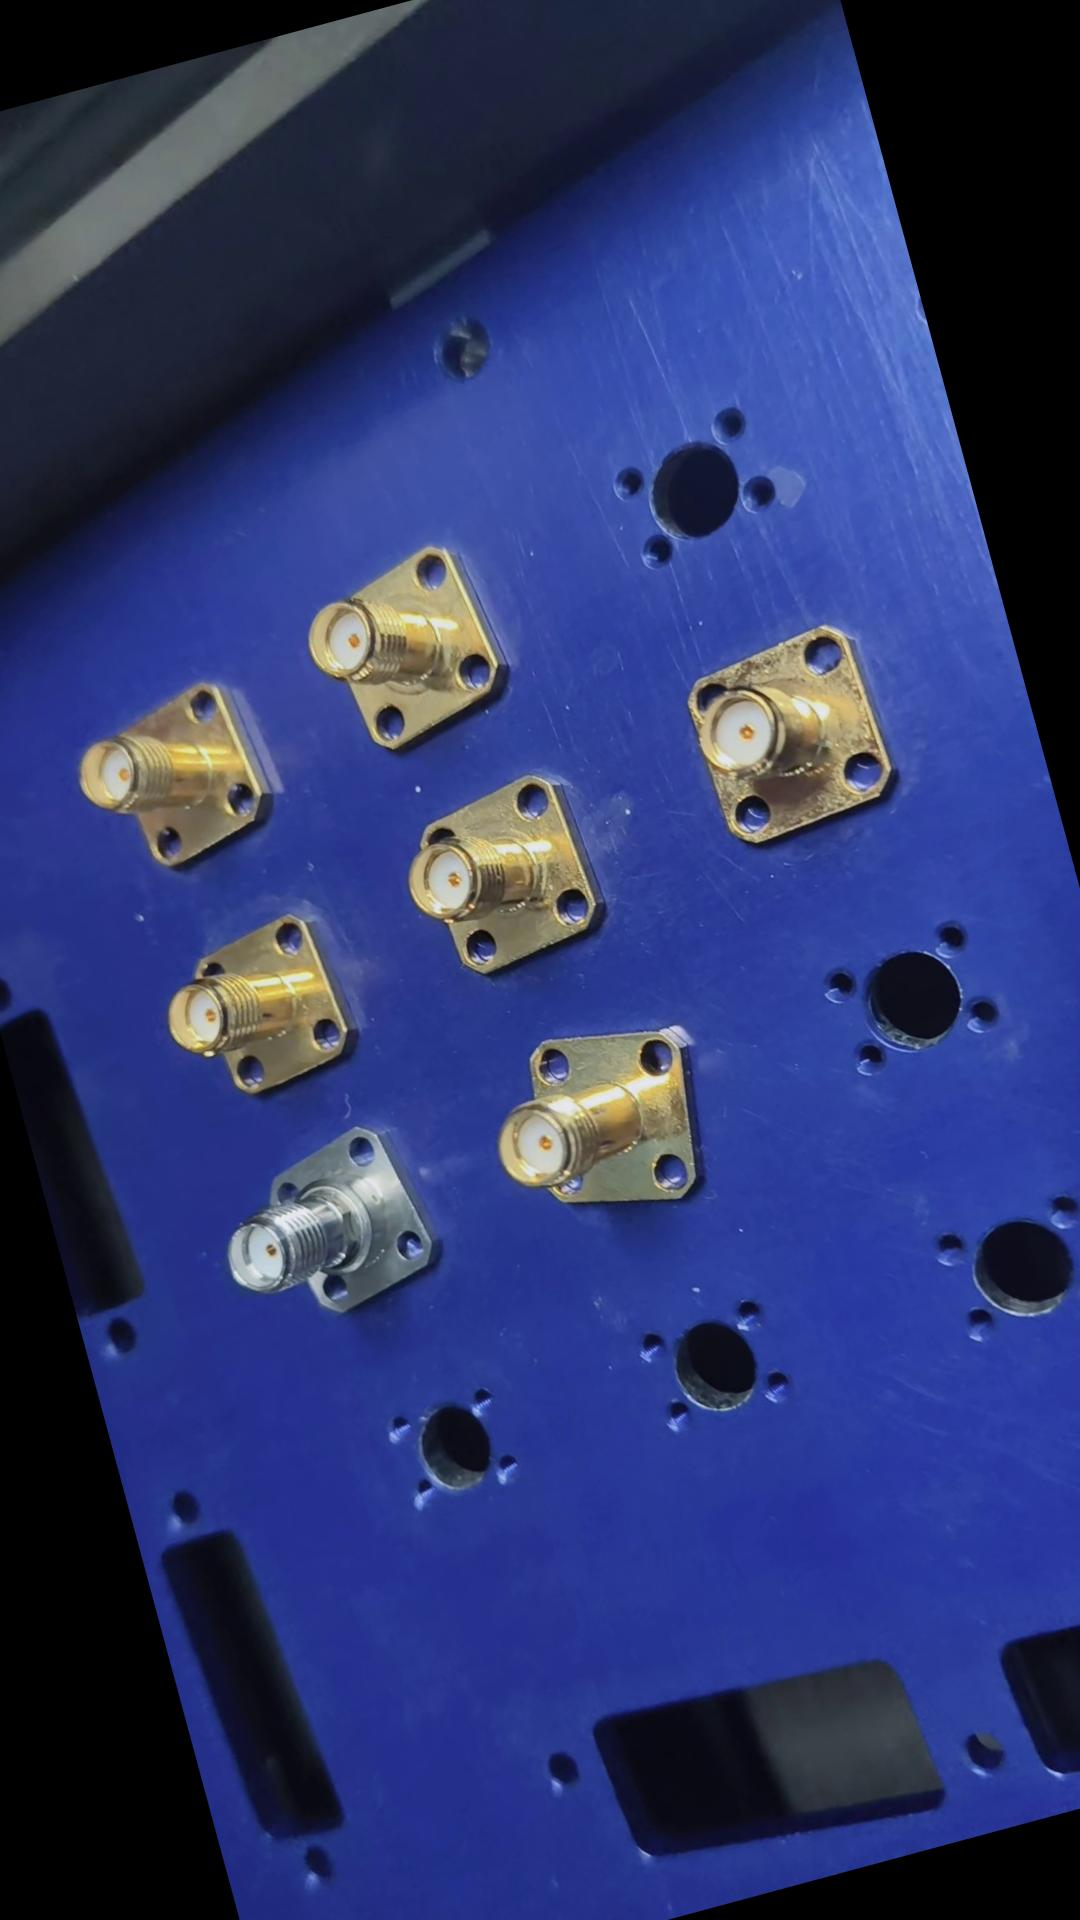SMA: (471, 997, 736, 1250), (295, 527, 533, 767), (676, 612, 913, 851), (204, 1113, 452, 1332), (388, 760, 624, 989), (66, 673, 293, 891), (152, 905, 373, 1109)
